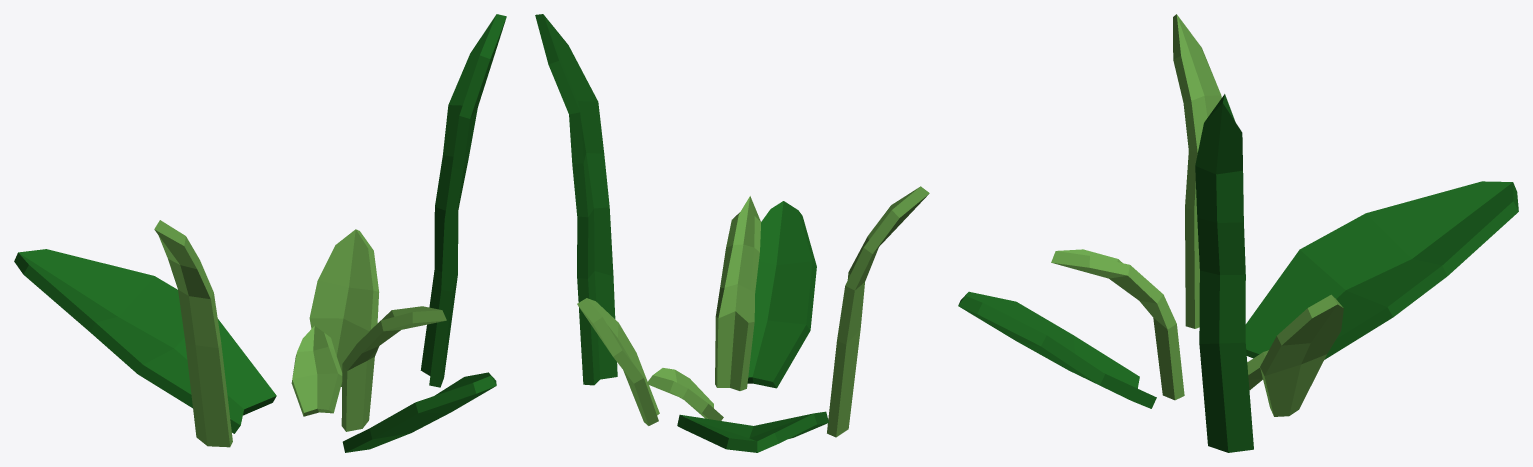
Rendered from Stage2.fbx.
3 views of the same model, side by side, from view 1: azimuth 30°, elevation 25°; view 2: azimuth 150°, elevation 25°; view 3: azimuth 270°, elevation 25° (orthographic). The views are drawn at different scales.
Parts seen in each view (by area): view 1: Grass2.2; view 2: Grass2.2; view 3: Grass2.2.
Boxes of the visible parts, <box> form: Grass2.2: <box>14,14,506,452</box>; Grass2.2: <box>535,14,929,452</box>; Grass2.2: <box>958,14,1518,452</box>.
Bounding box in the file's own units: 9.19 × 8.52 × 10.84.
